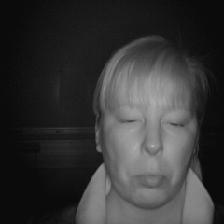sad: (86, 29, 215, 215)
